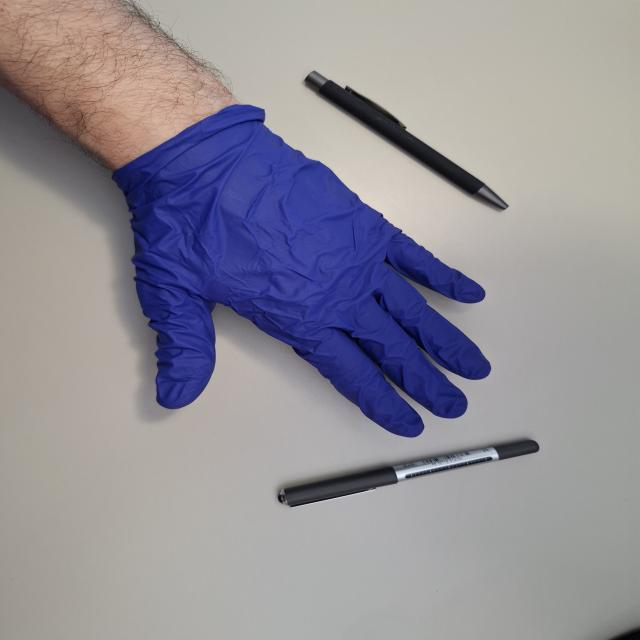glove_on: (102, 100, 497, 442)
